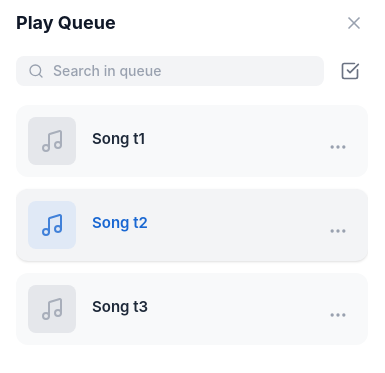
Test: QueuePanel folder drill-down › regression: menu track row giữ nguyên items cũ, không lộ remove_folder
Expected: the text "Song t1" is shown, 16,105 -> 368,189
Click the button named "More actions" in the row of "Song t1". click: coordinates (338, 147)
box: 320,129 -> 356,165
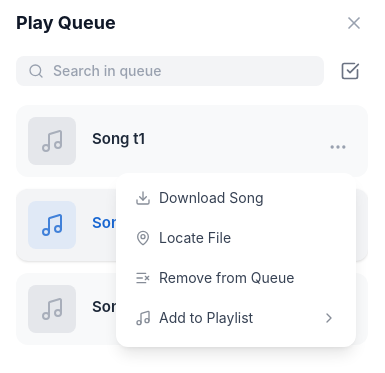
Result: the menu is shown at 116,173 -> 356,347
Result: the menu item "Add to Playlist" is shown at 123,300 -> 349,336
